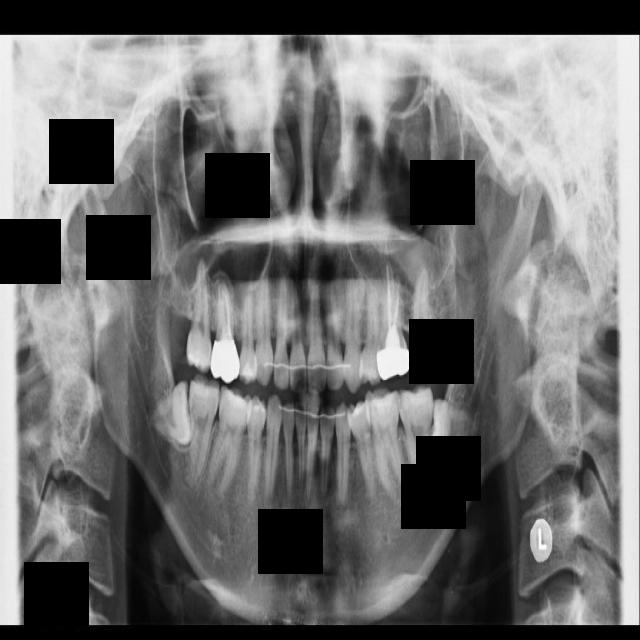52: (371, 324, 414, 382), (208, 338, 243, 386), (238, 349, 257, 383)
73: (381, 259, 404, 330), (215, 283, 237, 343), (575, 561, 615, 594)
BioHorizons Implant: (410, 269, 442, 378)
Biomet 3i Implant: (428, 399, 476, 467)
Blue Sky Bio Implant: (395, 383, 452, 496)
Caries: (185, 261, 215, 371)
Implant: (185, 376, 221, 485)
Keystone Dental Implant: (144, 379, 218, 453)
